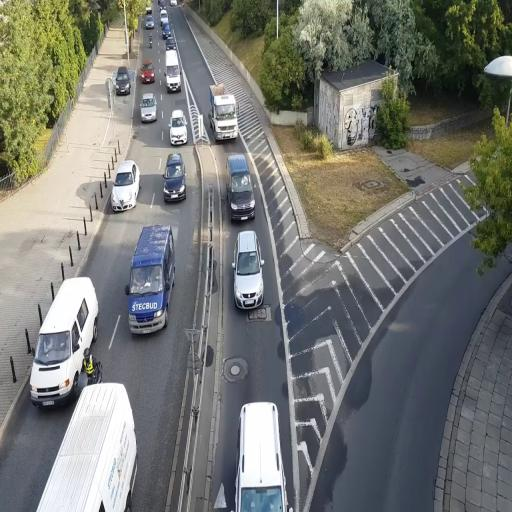vehicle: (35, 379, 138, 511), (35, 380, 138, 512), (29, 274, 99, 409), (236, 401, 287, 512), (126, 223, 176, 336), (236, 401, 286, 512), (233, 230, 264, 309), (228, 152, 256, 223), (208, 86, 239, 142), (112, 160, 140, 212), (163, 153, 186, 203), (165, 49, 182, 93), (170, 109, 188, 146), (140, 93, 156, 123), (114, 68, 131, 96), (139, 62, 155, 84)
